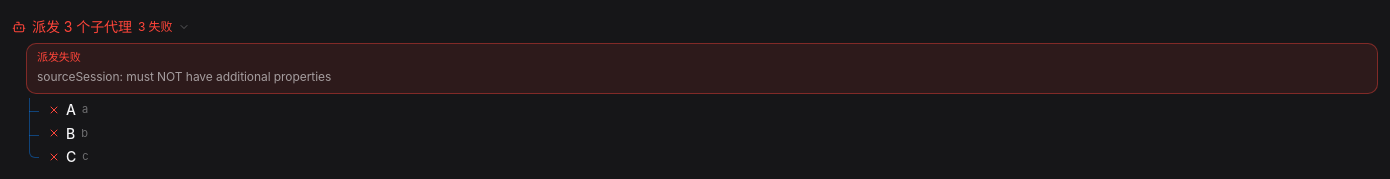
Test: TaskToolBlock failed dispatch › opens by default with the full error, and keeps a summary when collapsed
Expected: the message shows "sourceSession: must NOT have additional properties", [37, 69, 331, 84]
// Collapse via the header toggle: summary stays visible (with full text in title).
Click the button "派发 3 个子代理 3 失败": {"x": 101, "y": 27} [12, 13, 190, 41]
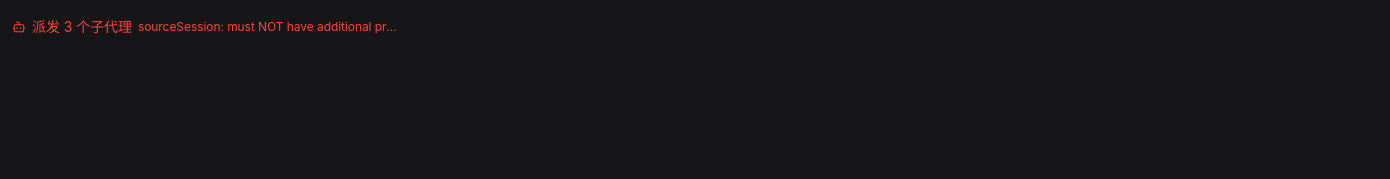
Expected: the message "派发失败 sourceSession: must NOT have additional properties" is gone
Expected: the text titled "sourceSession: must NOT have additional properties" is shown, [138, 19, 401, 35]
